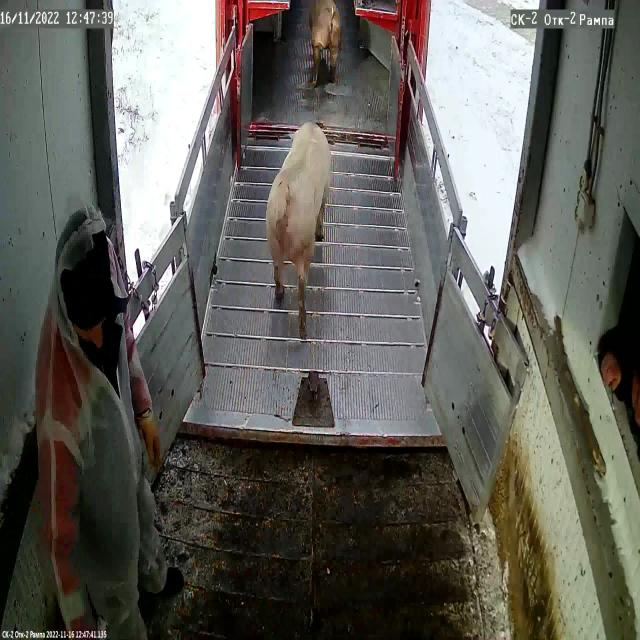pig: (266, 122, 330, 340), (312, 0, 340, 79)
